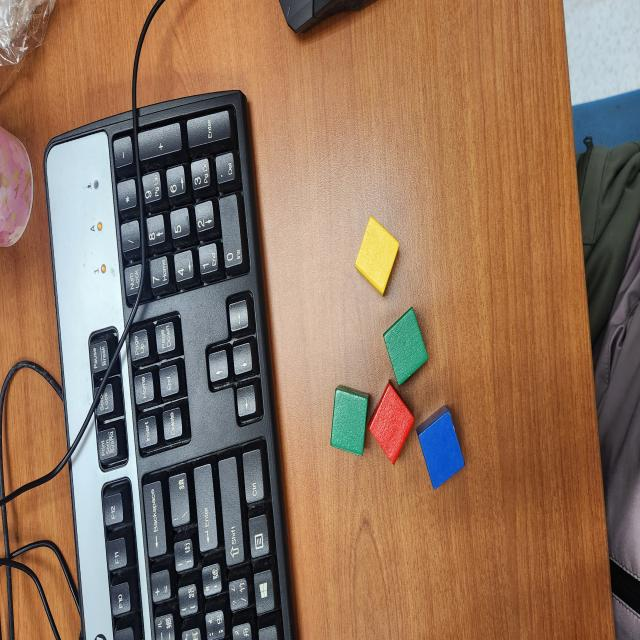blue: (416, 404, 466, 492)
green: (382, 306, 429, 387), (330, 384, 370, 458)
red: (368, 380, 416, 468)
yellow: (354, 216, 400, 297)
